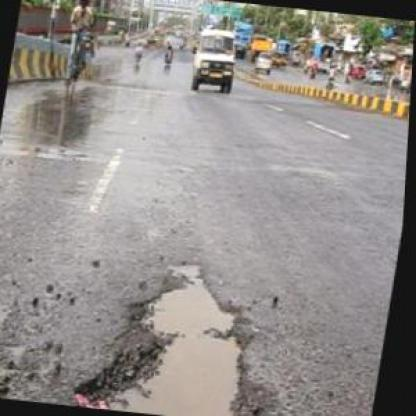pothole: (74, 259, 302, 415)
